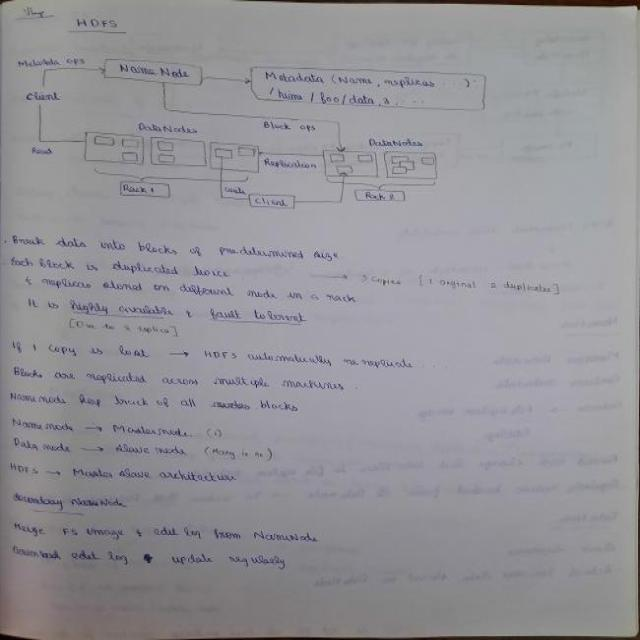Figure Detection - v3 Dataset Version2: (3, 45, 510, 231)
